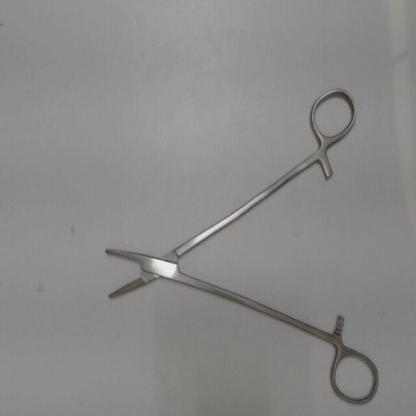8 Mayo Needle Holder: (95, 76, 383, 412)
